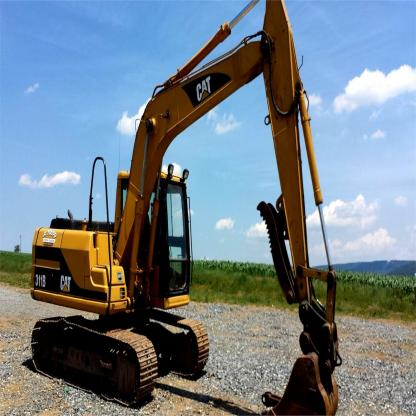excavator: (20, 4, 343, 416)
